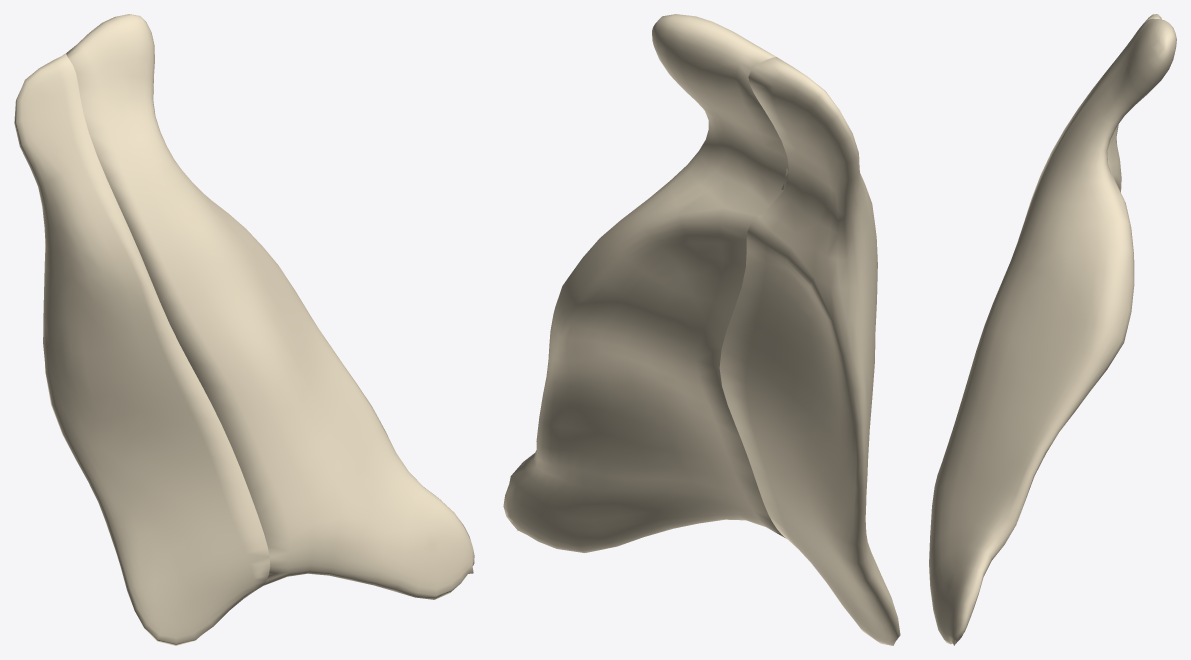
The model's file is hra-thymus-female-v1.glb.
The picture shows the model from 3 angles, left to right: view 1: azimuth 30°, elevation 25°; view 2: azimuth 150°, elevation 25°; view 3: azimuth 270°, elevation 25°; orthographic projection. The views are drawn at different scales.
Visible parts, largest first — view 1: VH_F_thymus_lobe_L, VH_F_thymus_lobe_R; view 2: VH_F_thymus_lobe_L, VH_F_thymus_lobe_R; view 3: VH_F_thymus_lobe_L, VH_F_thymus_lobe_R.
Part boxes in pixels (x1=…): VH_F_thymus_lobe_L: x1=66, y1=14, x2=474, y2=599; VH_F_thymus_lobe_R: x1=14, y1=53, x2=270, y2=645; VH_F_thymus_lobe_L: x1=503, y1=14, x2=788, y2=552; VH_F_thymus_lobe_R: x1=719, y1=57, x2=900, y2=645; VH_F_thymus_lobe_L: x1=929, y1=18, x2=1176, y2=645; VH_F_thymus_lobe_R: x1=1107, y1=14, x2=1161, y2=192.
Bounding box in the file's own units: 0.086 × 0.1236 × 0.0538.
